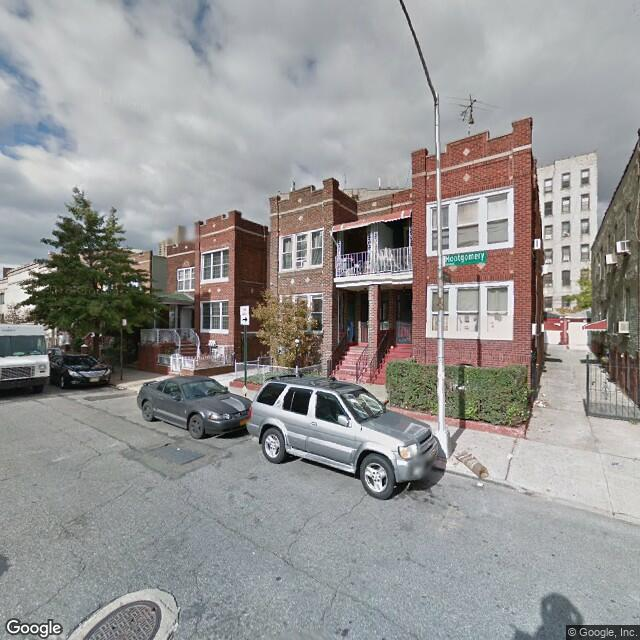litter: (505, 450, 517, 460), (531, 398, 544, 407), (475, 479, 483, 490), (176, 447, 180, 450)
